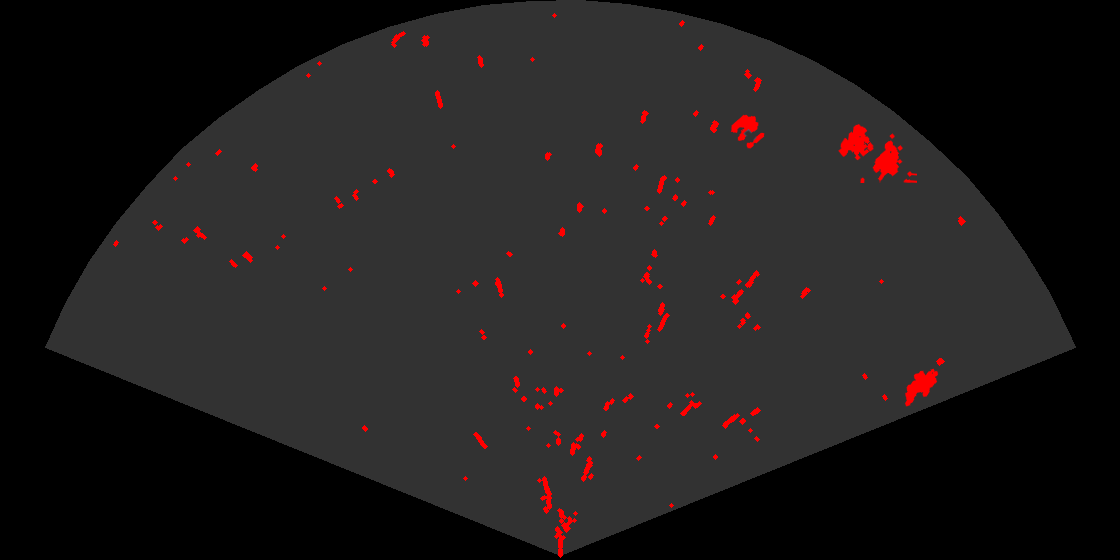AUV: (903, 367, 940, 408)
ball: (729, 113, 766, 150)
cage: (837, 123, 917, 183)
